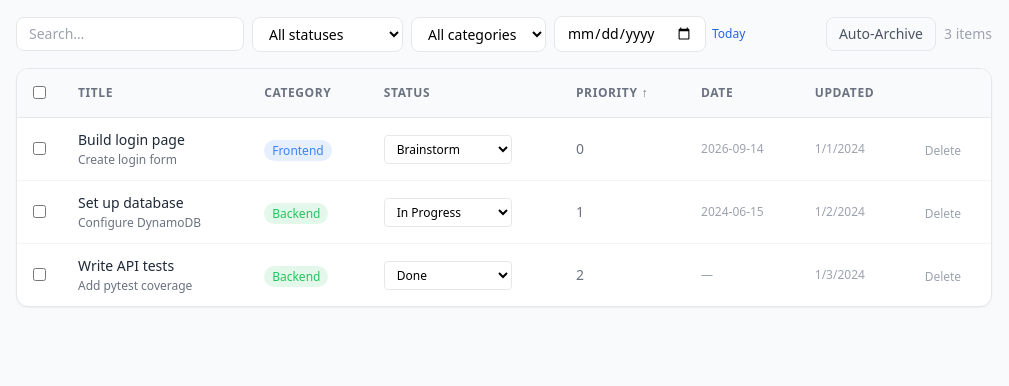
Test: ListView › select-all checkbox selects every visible card
What coordinates should you click on to do the following:
click the checkbox named "Select all"
I would click on:
 (40, 92)
Its box is [33, 86, 46, 99].
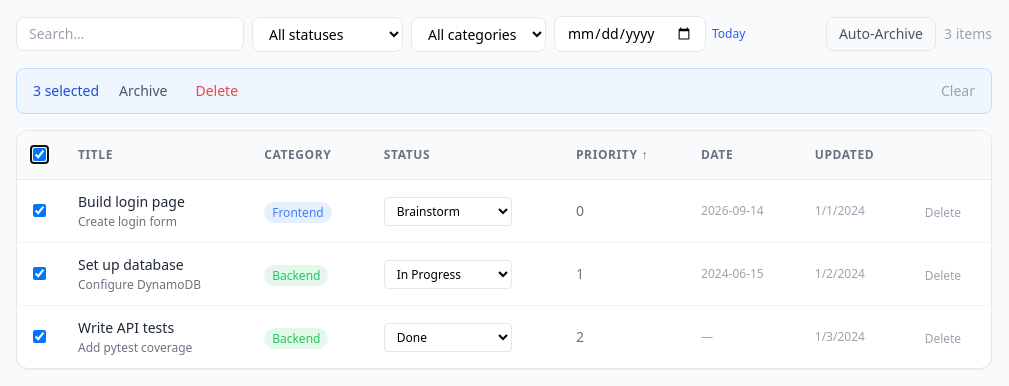
Check: the element with test id "bulk-action-bar" shows "3 selected", box [16, 68, 992, 114]
